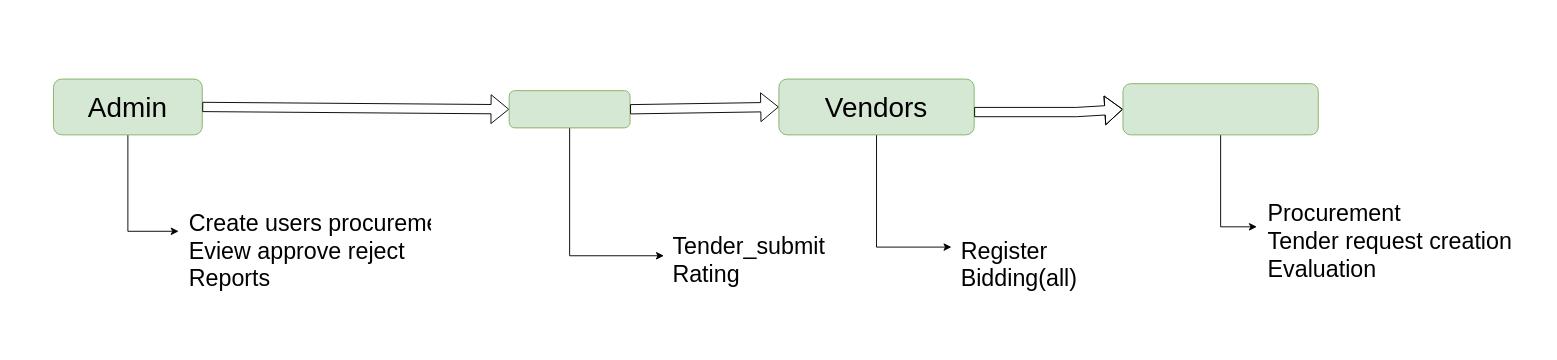
Some shapes in this 1557 by 360 pixel diagram are drawn without their labels. Each missing label, with the centre of its shape:
Proc_office: the point at 1220,109
User: the point at 569,109
